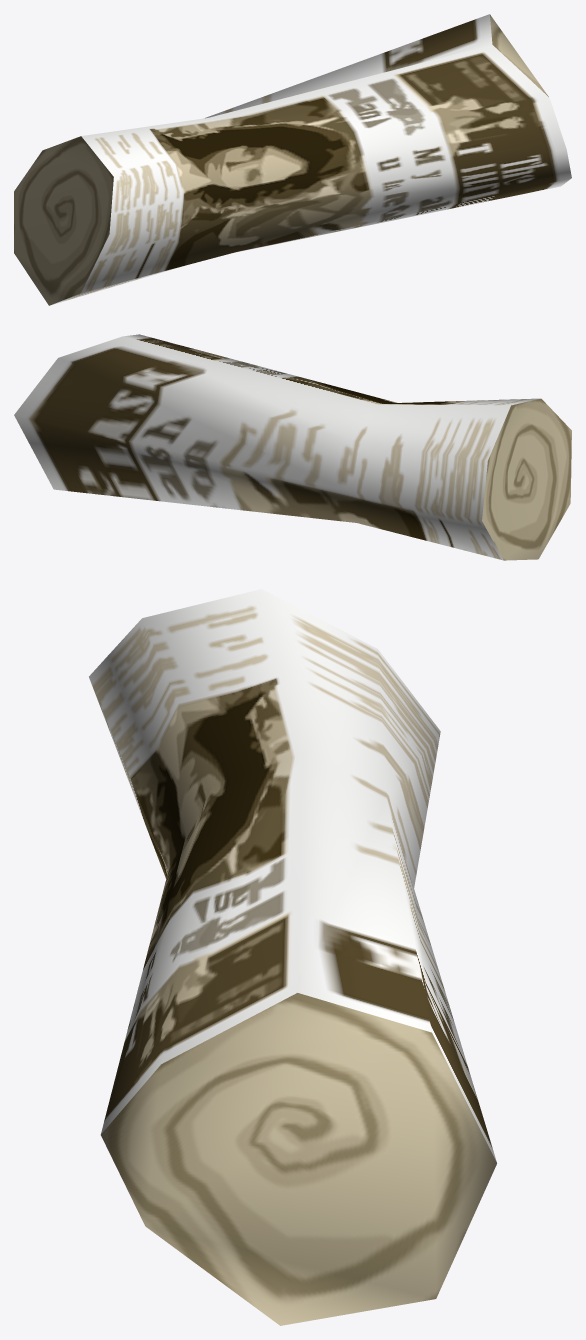
Rendered from SM_PROP_paper_04.fbx.
3 renders of one model, top to bottom at view 1: azimuth 30°, elevation 25°; view 2: azimuth 150°, elevation 25°; view 3: azimuth 270°, elevation 25°, orthographic. The views are drawn at different scales.
Visible parts, largest first — view 1: SM_PROP_paper_04; view 2: SM_PROP_paper_04; view 3: SM_PROP_paper_04.
Boxes of the visible parts, x1,y1,x2,y2 form: SM_PROP_paper_04: [14, 14, 571, 305]; SM_PROP_paper_04: [14, 334, 571, 560]; SM_PROP_paper_04: [89, 589, 496, 1325].
Size of the model in its own units: 53.32 by 16.91 by 20.15.
